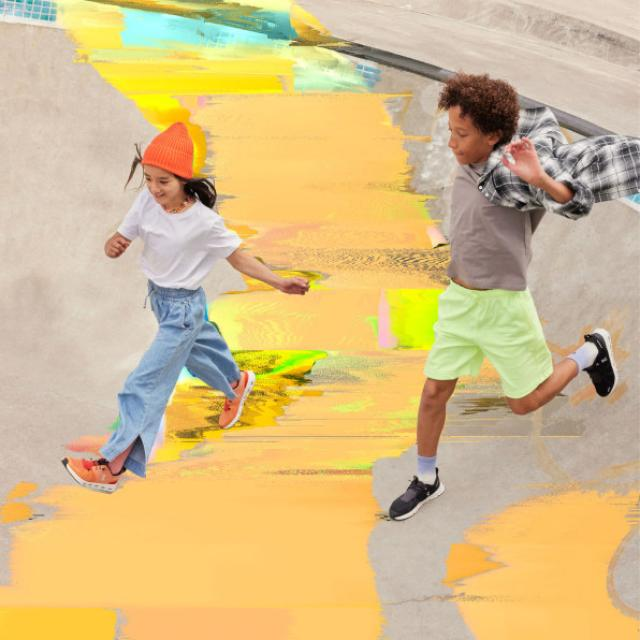Person: (390, 70, 640, 518), (59, 121, 307, 495)
